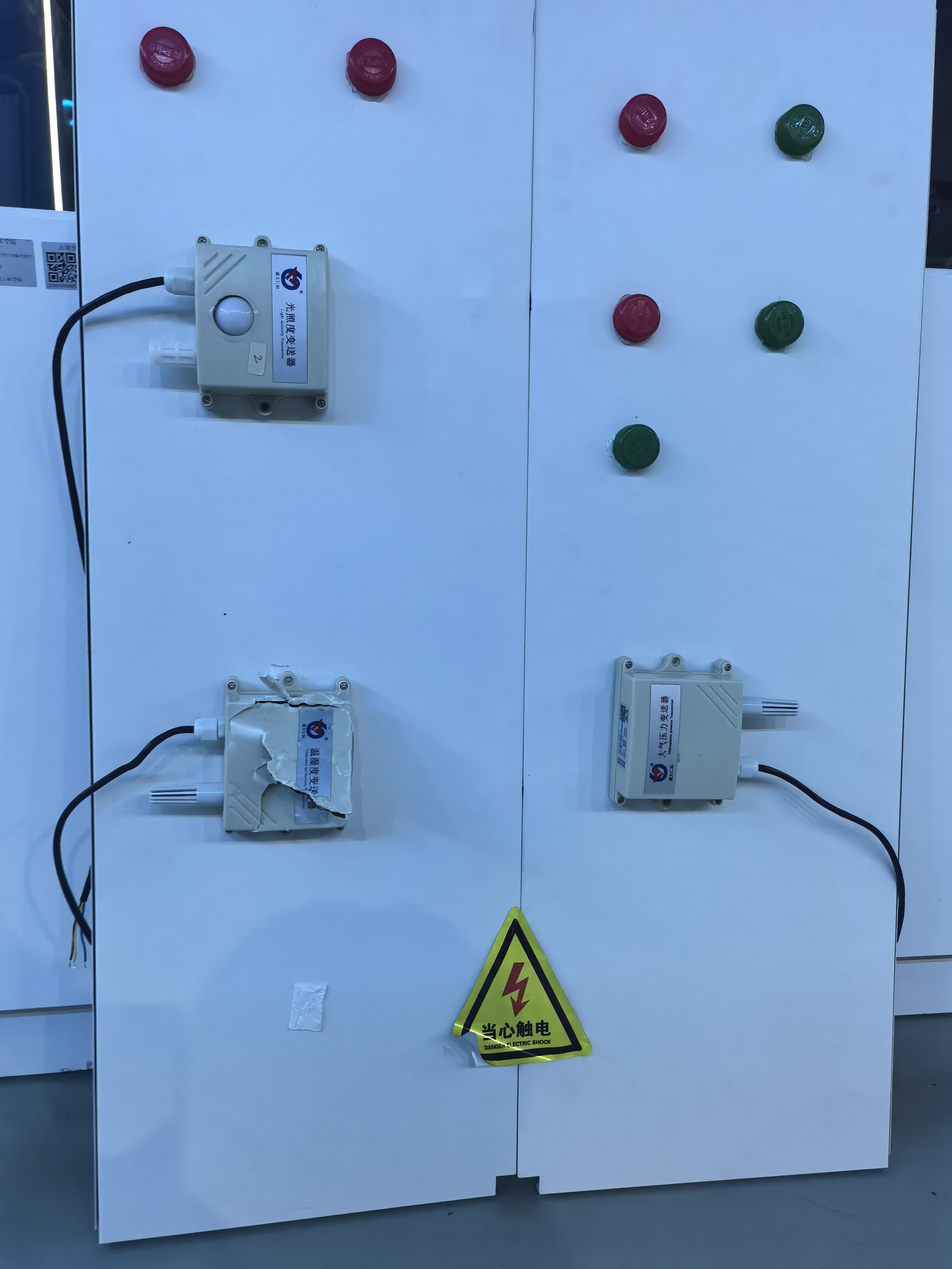red_warning: (326, 25, 472, 104), (591, 70, 688, 173), (579, 268, 684, 362), (128, 15, 228, 97)
sensor_damage: (108, 624, 381, 858)
